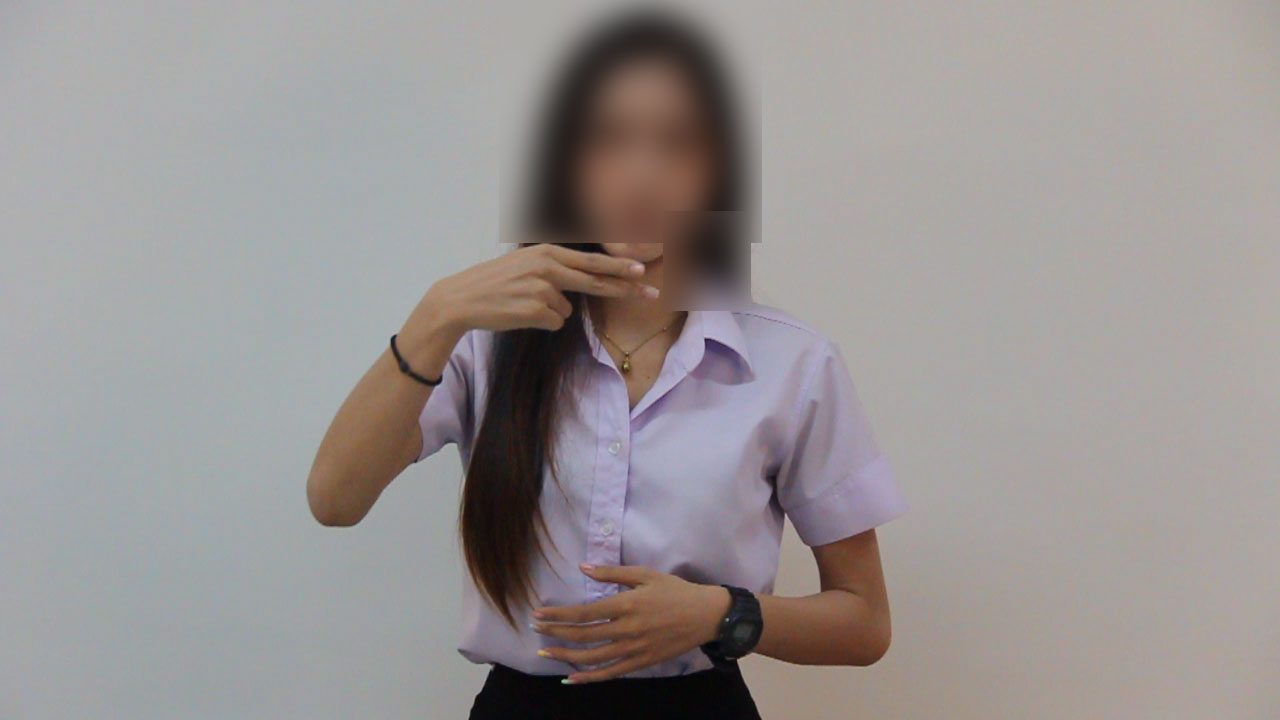hor: (415, 232, 673, 350)
